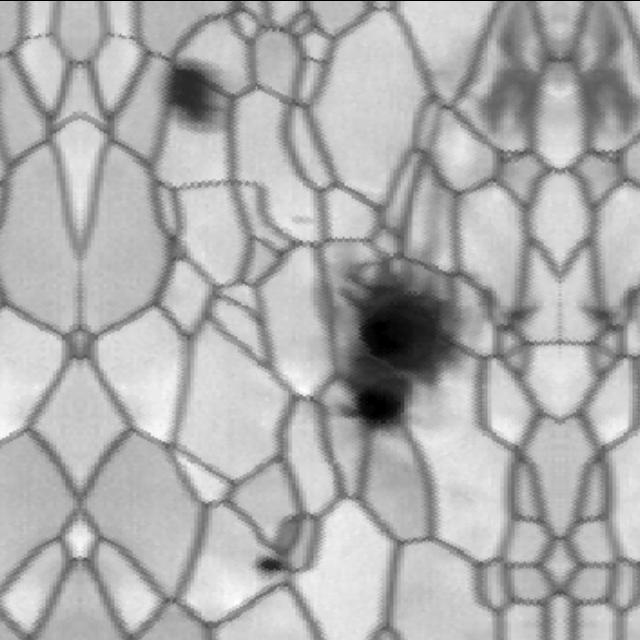good_void: (324, 235, 465, 435), (470, 5, 557, 131), (562, 5, 640, 131), (157, 45, 233, 133), (486, 290, 537, 349), (582, 290, 633, 349), (240, 534, 297, 577), (282, 205, 312, 237)
